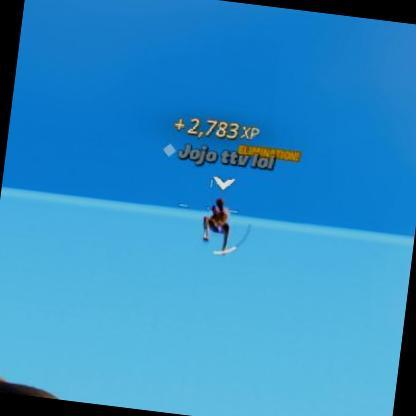person: (200, 194, 233, 243)
